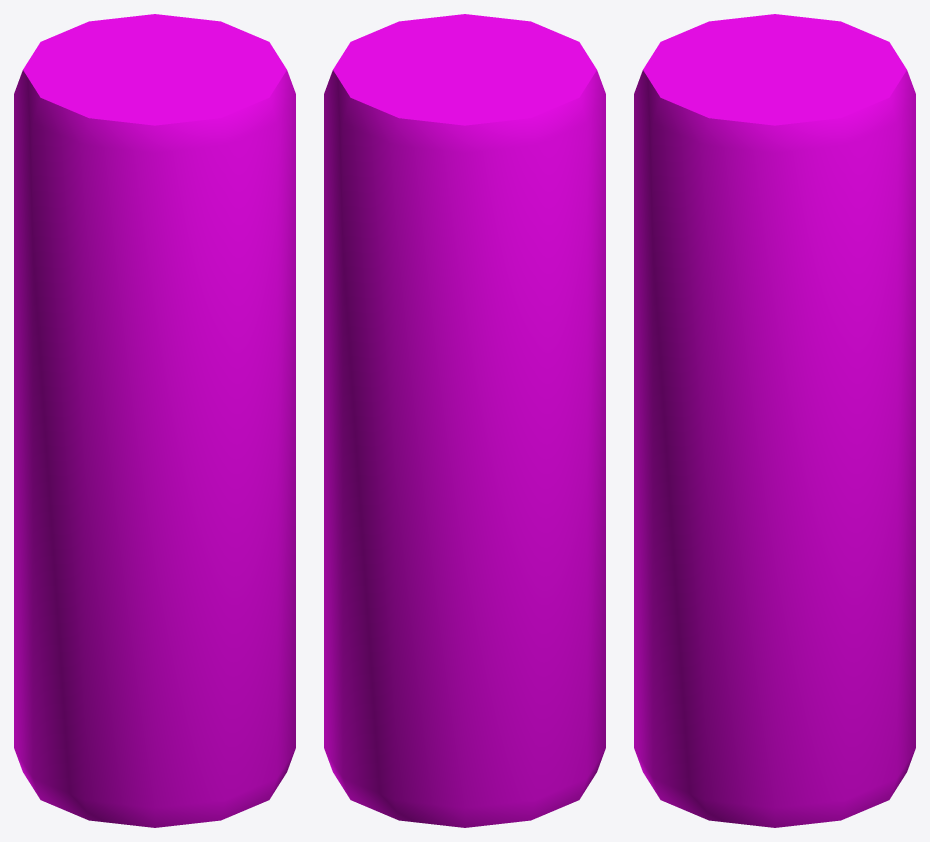
File: hero-robot.collision.glb
The picture shows the model from 3 angles, left to right: view 1: azimuth 30°, elevation 25°; view 2: azimuth 150°, elevation 25°; view 3: azimuth 270°, elevation 25°; orthographic projection.
Visible parts, largest first — view 1: robot_collision_collision; view 2: robot_collision_collision; view 3: robot_collision_collision.
Boxes of the visible parts, x1,y1,x2,y2 form: robot_collision_collision: (14,14,295,827); robot_collision_collision: (324,14,605,827); robot_collision_collision: (634,14,915,827).
Bounding box in the file's own units: 0.64 × 1.76 × 0.64.
